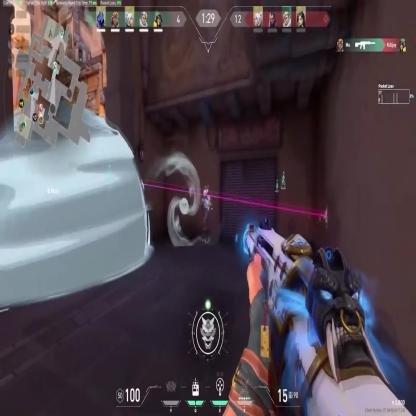enemy: (200, 184, 213, 247)
enemy_head: (204, 186, 209, 197)
